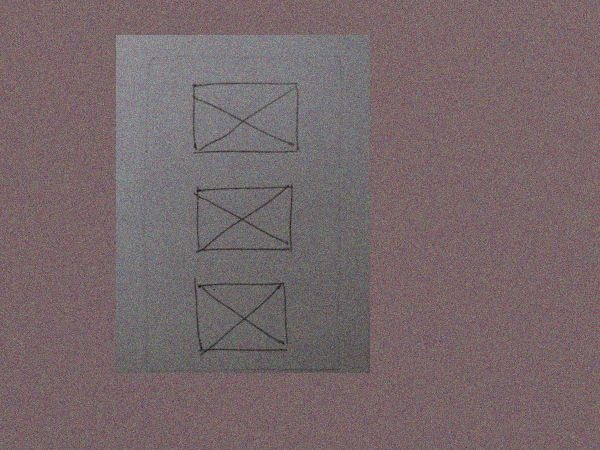image: (185, 73, 306, 161), (184, 271, 297, 360), (185, 177, 300, 260)
